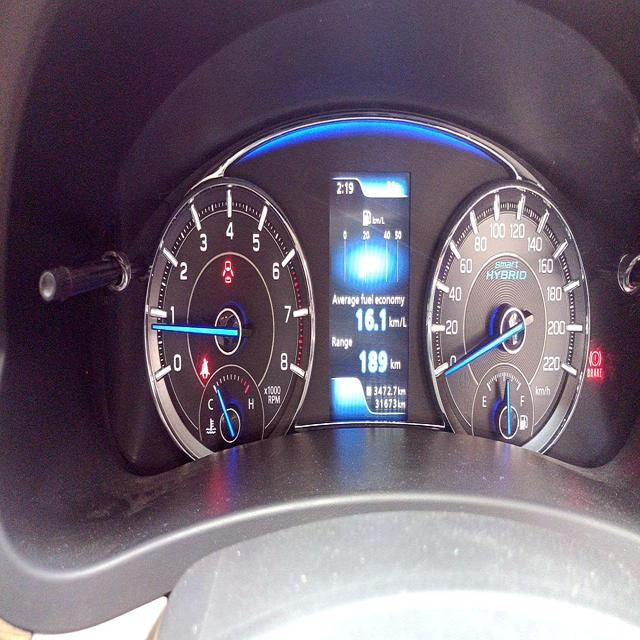odometer: (373, 396, 398, 412)
